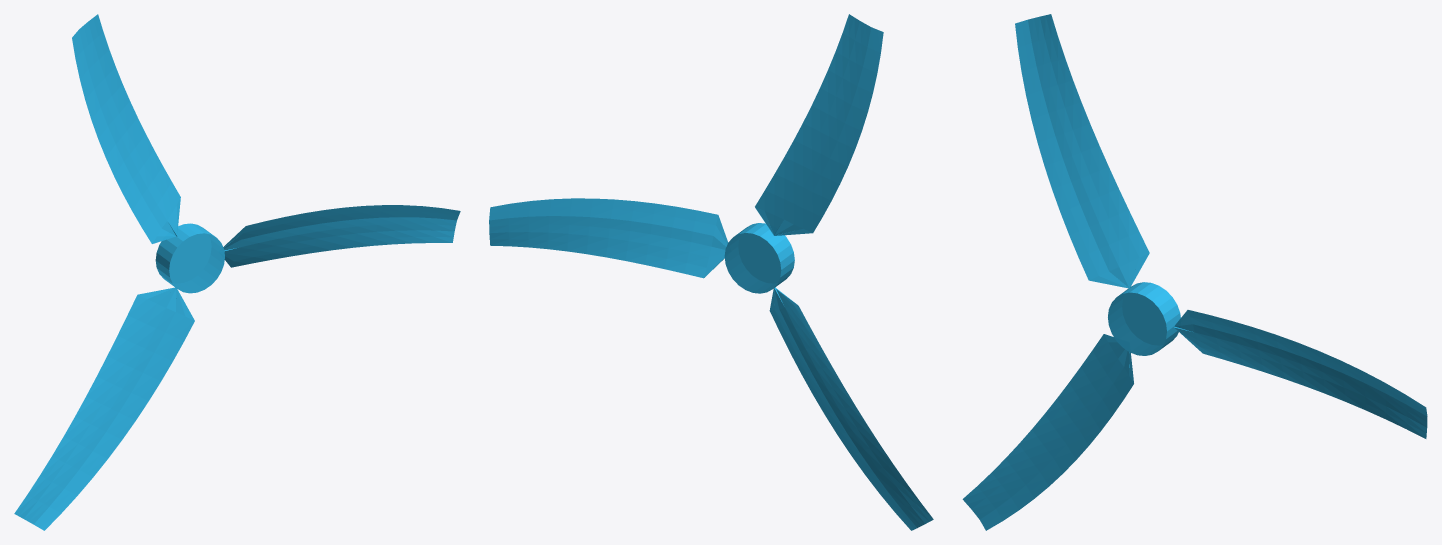
Rendered from cinewhoop_prop_cw.obj.
The picture shows the model from 3 angles, left to right: view 1: azimuth 30°, elevation 25°; view 2: azimuth 150°, elevation 25°; view 3: azimuth 330°, elevation 25°; orthographic projection. The views are drawn at different scales.
Size of the model in its own units: 0.1897 by 0.2047 by 0.0107.
